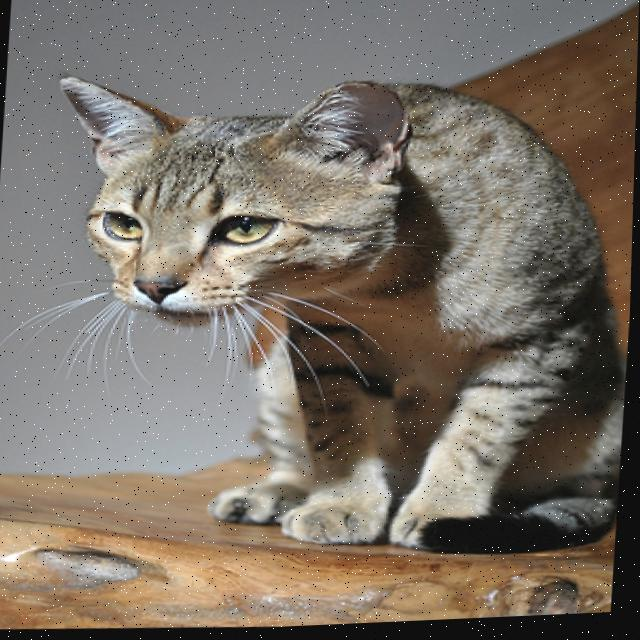Egyptian Mau: (24, 50, 638, 583)
